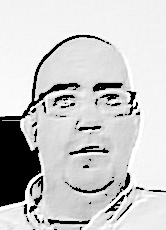nose_M_C: (74, 102, 103, 141)
